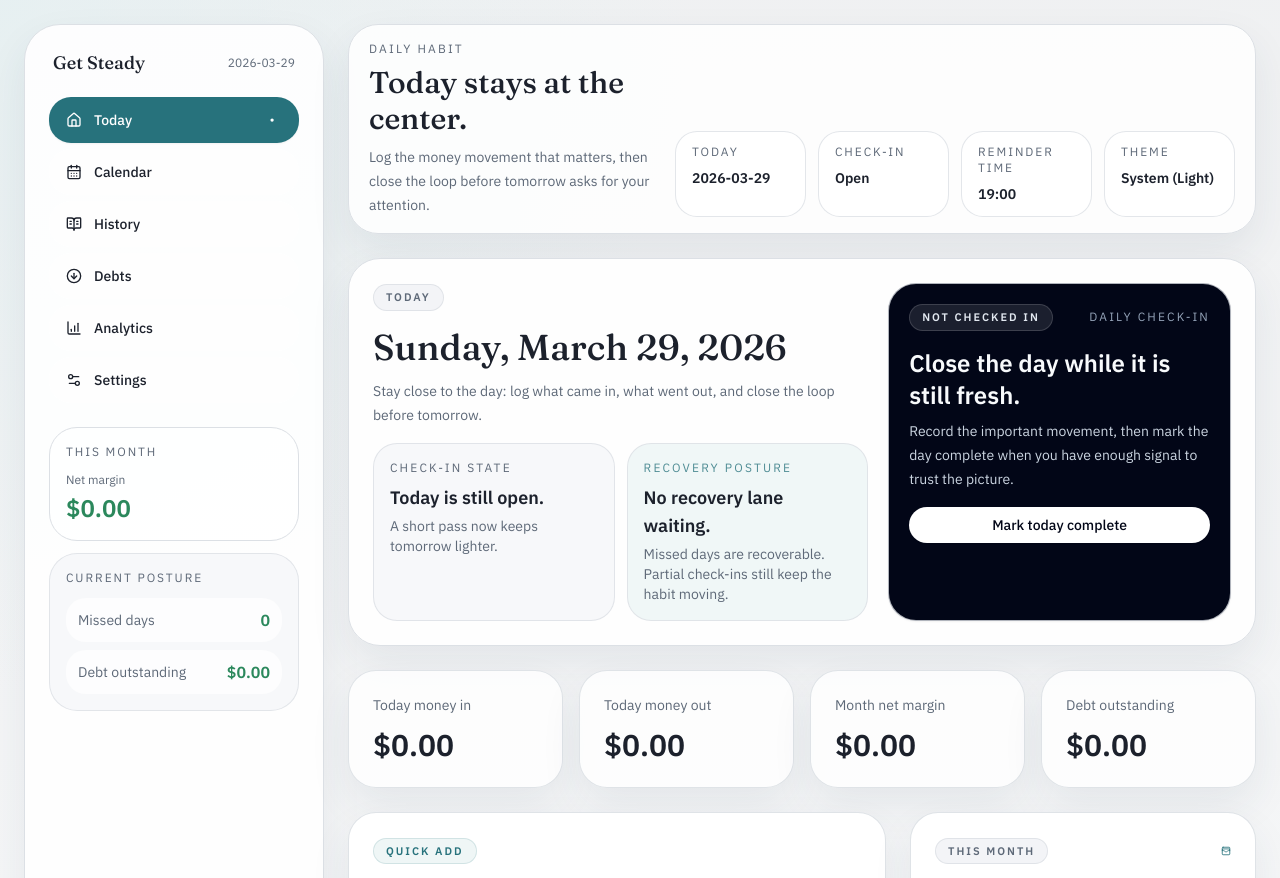
App › shows backup management details in settings
This screenshot has width=1280, height=878.
Click the button "Settings".
click(174, 380)  # box [49,357,299,403]
(page scrolled)
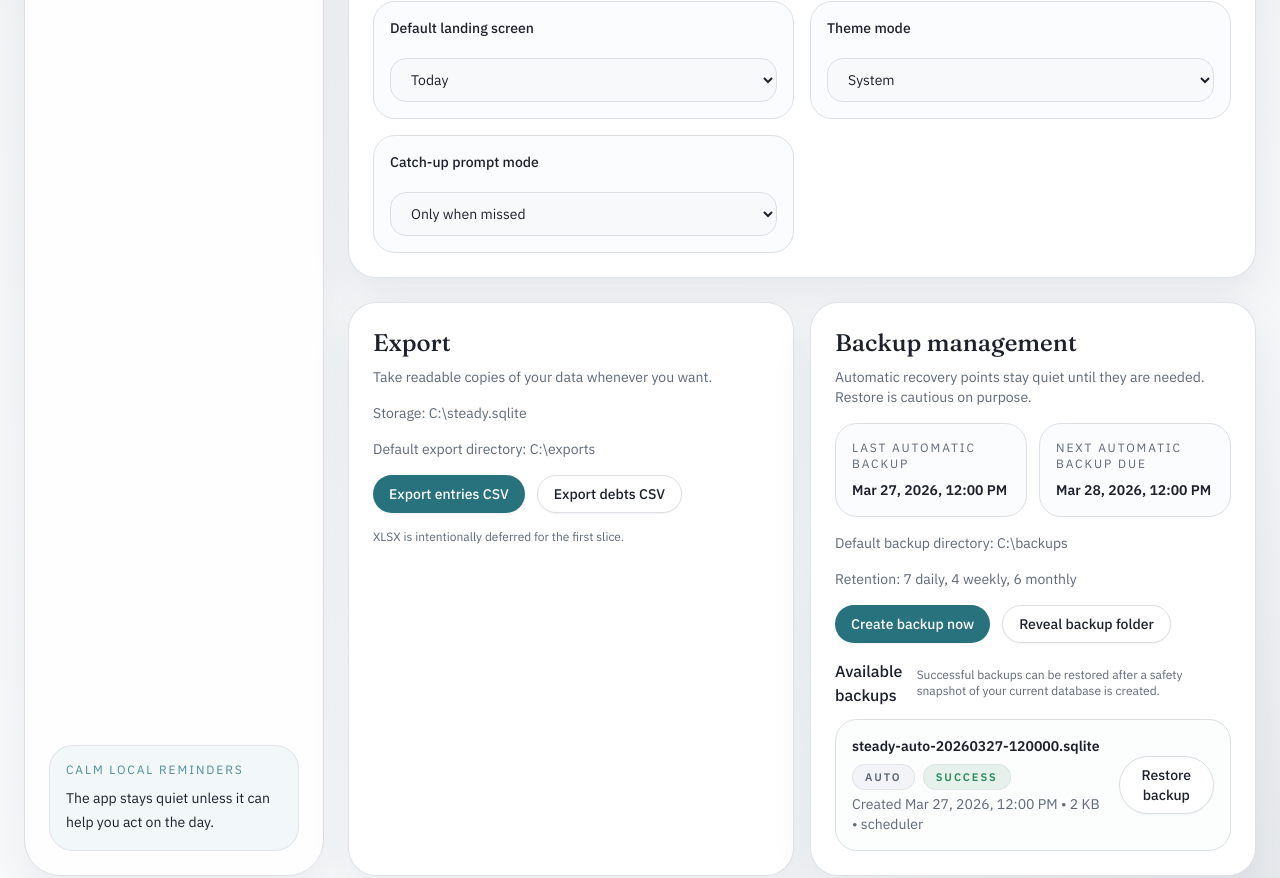
Expected: the heading "Backup management" is shown, [835,328,1077,356]
Expected: the text "Retention: 7 daily, 4 weekly, 6 monthly" is shown, [835,570,1077,588]
Expected: the text "steady-auto-20260327-120000.sqlite" is shown, [852,736,1100,756]
